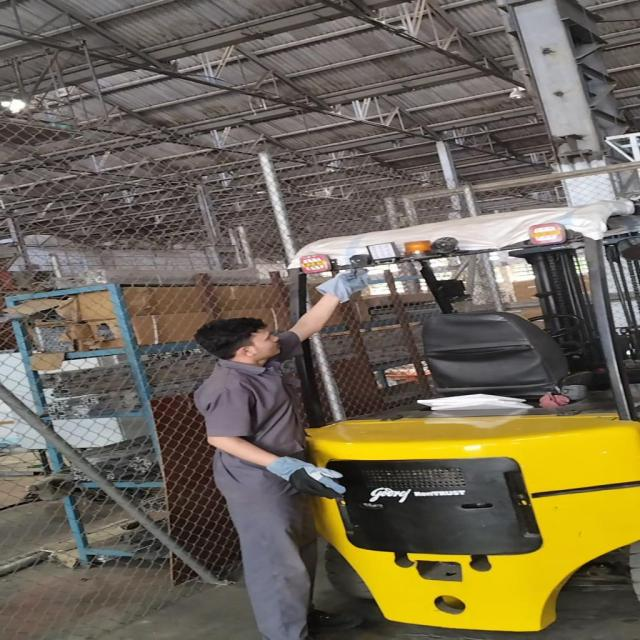Gloves-Detection: (257, 448, 346, 503), (318, 270, 368, 305)
